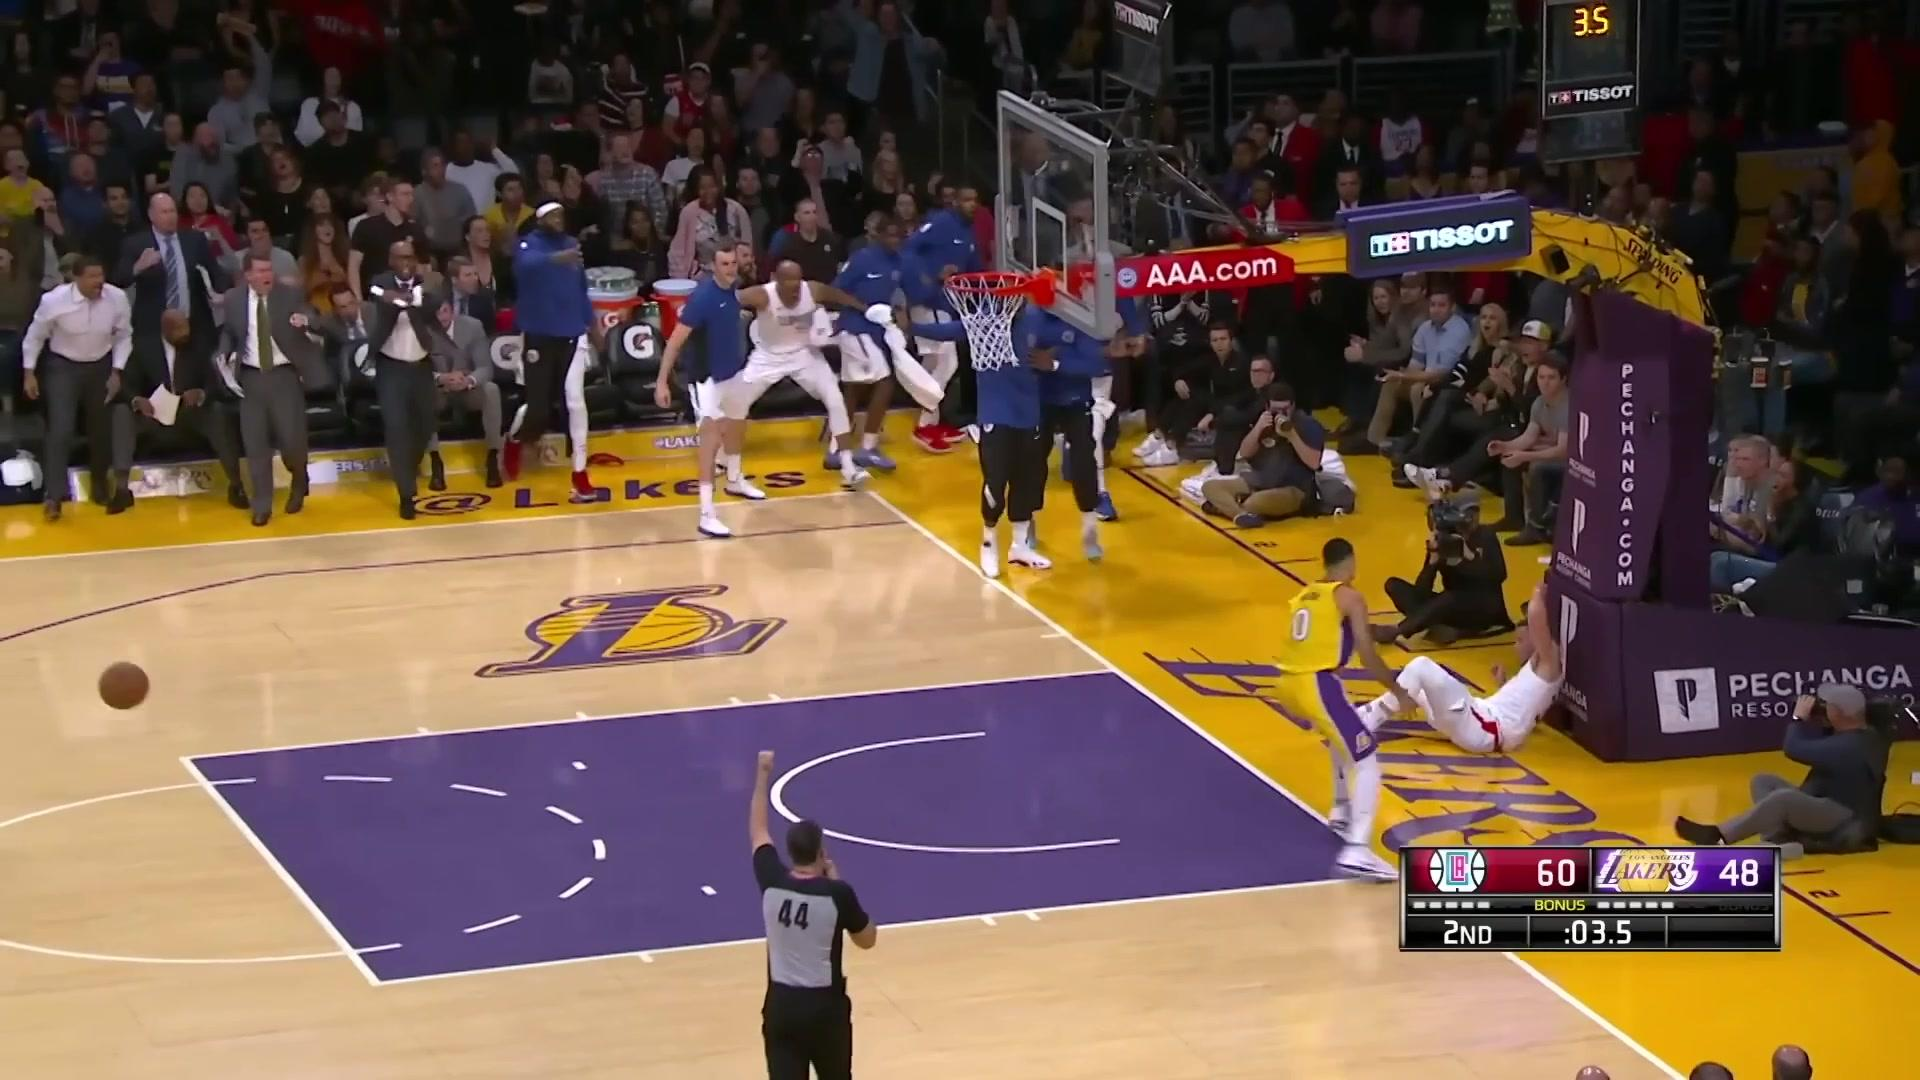foul: (1240, 539, 1585, 778)
